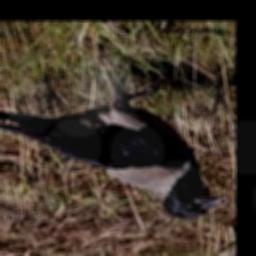Crow: (0, 72, 222, 220)
